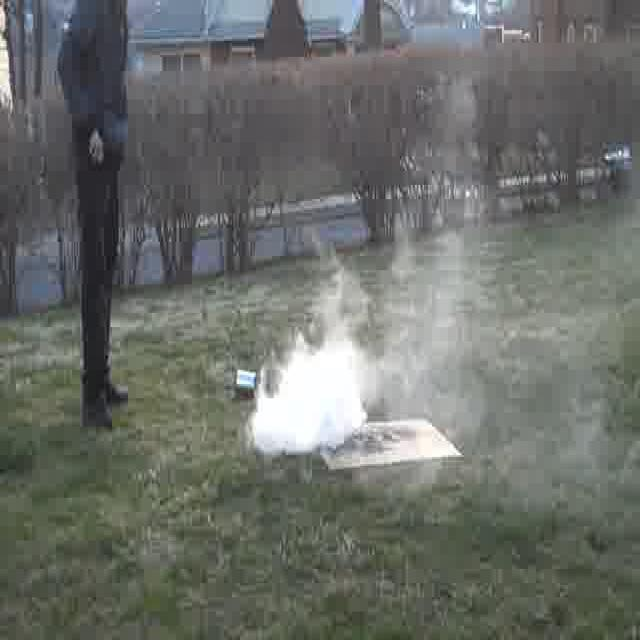smoke: (241, 327, 359, 461)
